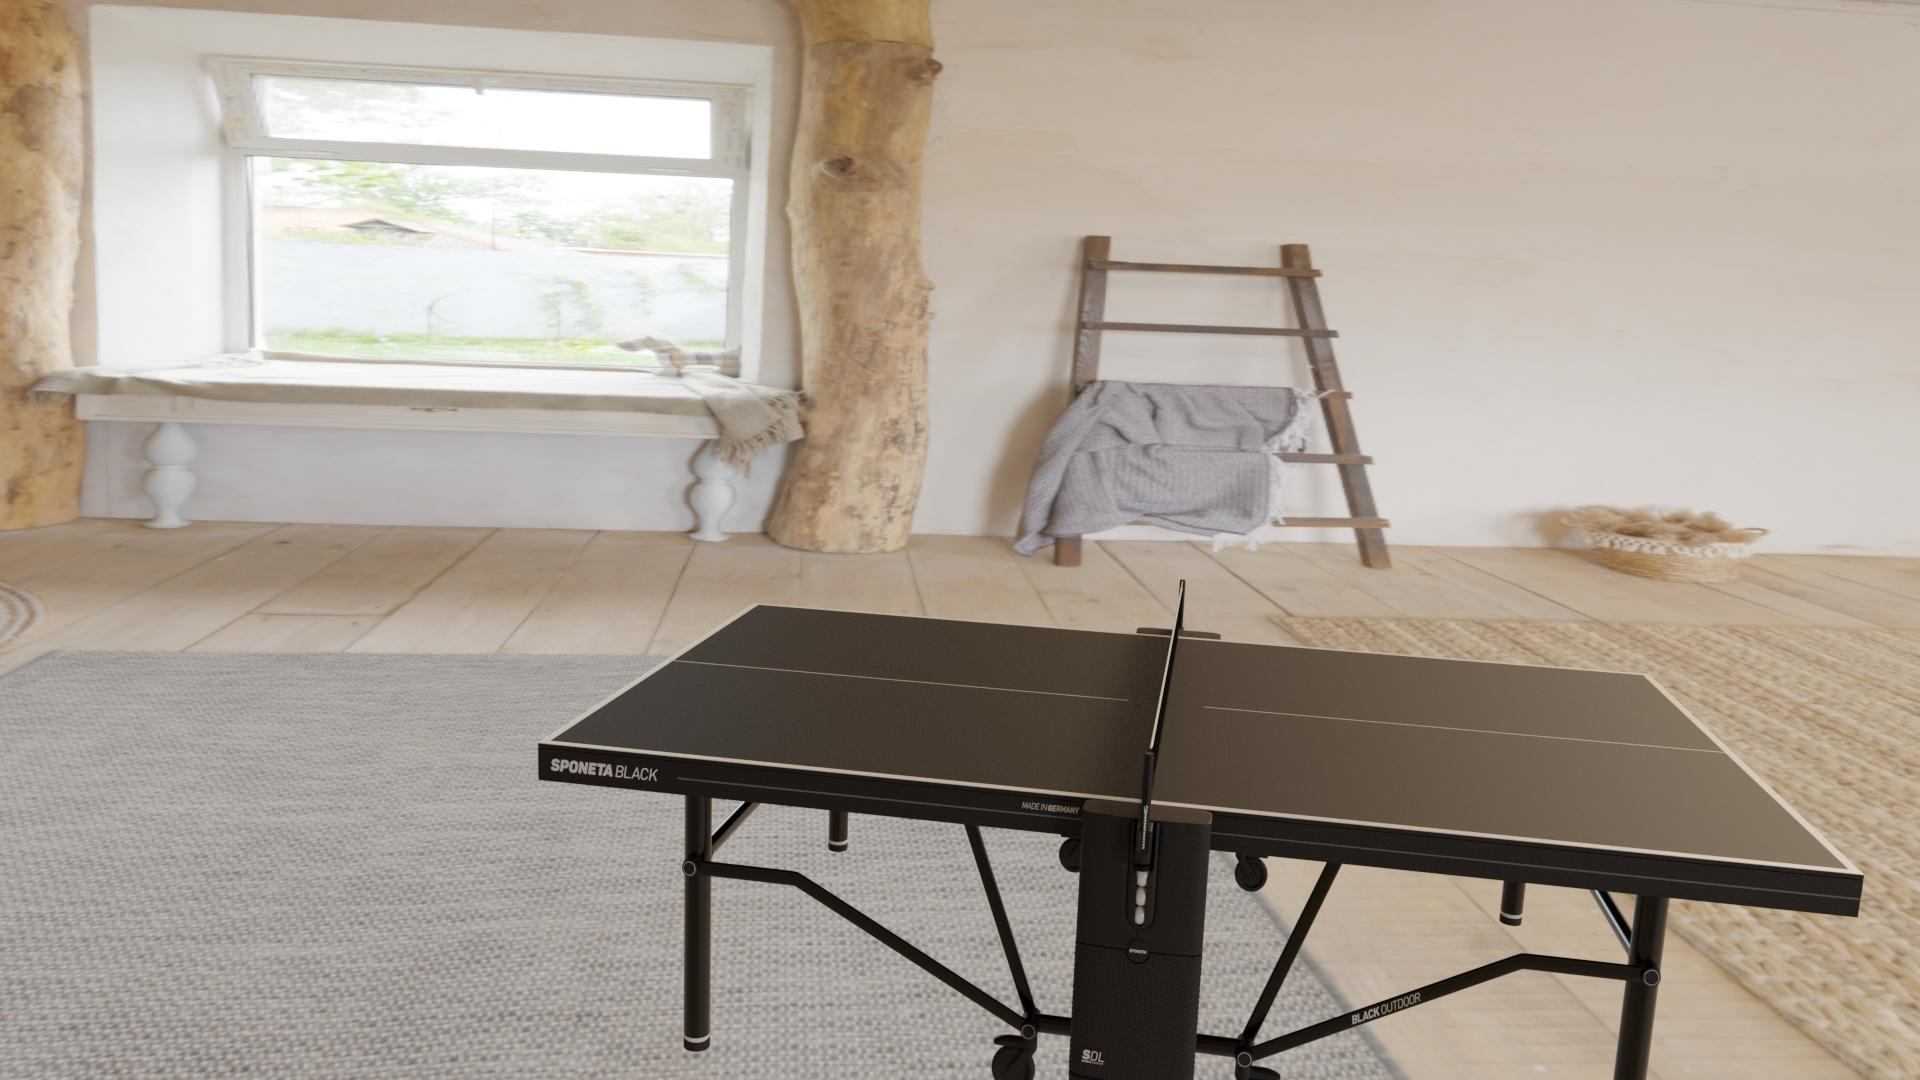table: (550, 605, 1849, 869)
